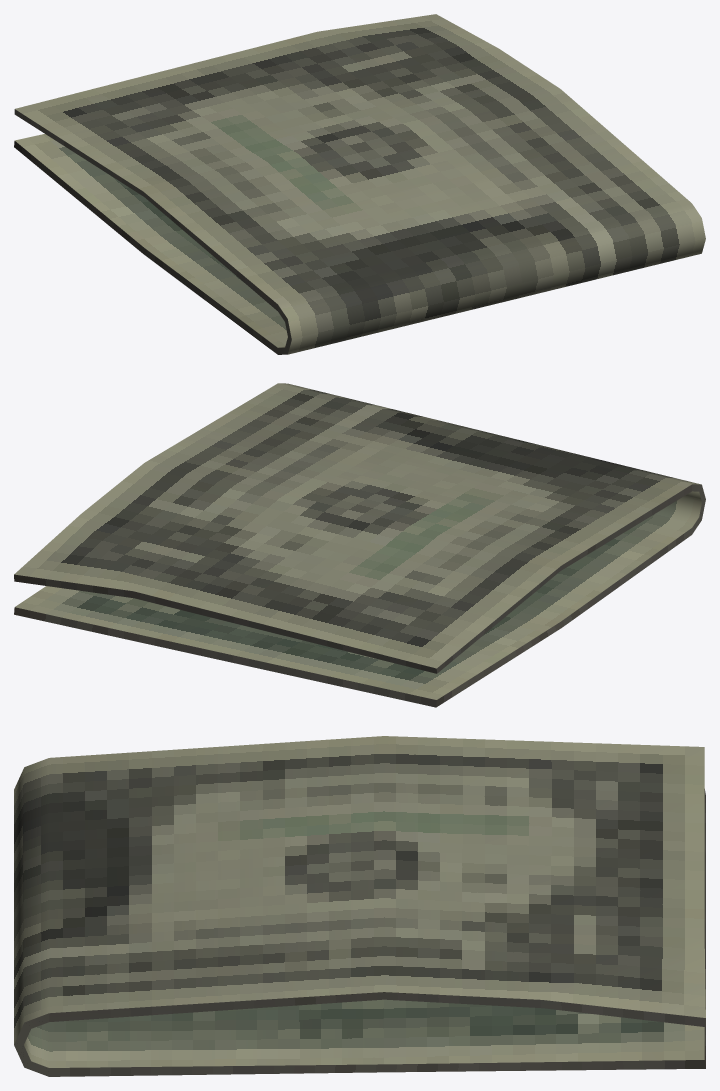
File: cash_3.glb
3 renders of one model, top to bottom at view 1: azimuth 30°, elevation 25°; view 2: azimuth 150°, elevation 25°; view 3: azimuth 270°, elevation 25°, orthographic. The views are drawn at different scales.
Parts seen in each view (by area): view 1: cash_3; view 2: cash_3; view 3: cash_3.
Part boxes in pixels (x1=…): cash_3: x1=14, y1=14, x2=705, y2=354; cash_3: x1=14, y1=383, x2=705, y2=707; cash_3: x1=14, y1=736, x2=705, y2=1076.
Size of the model in its own units: 0.1051 by 0.0161 by 0.118.
Materials: 1 (1 with a texture image).
